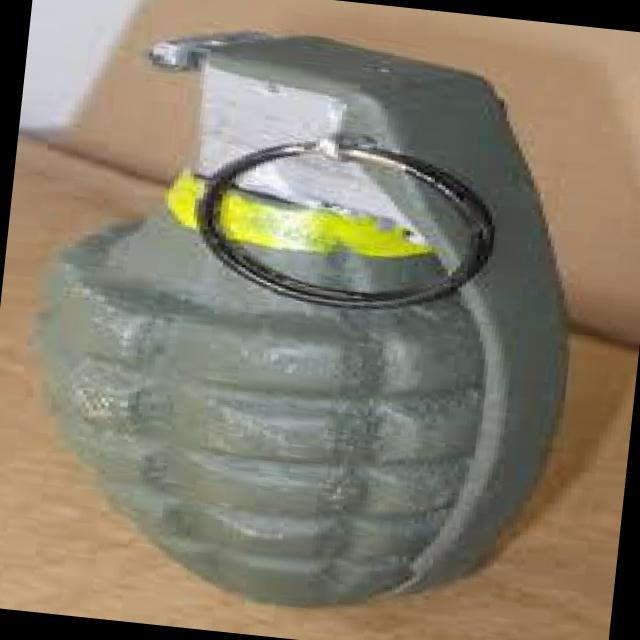grenade: (9, 14, 640, 637)
